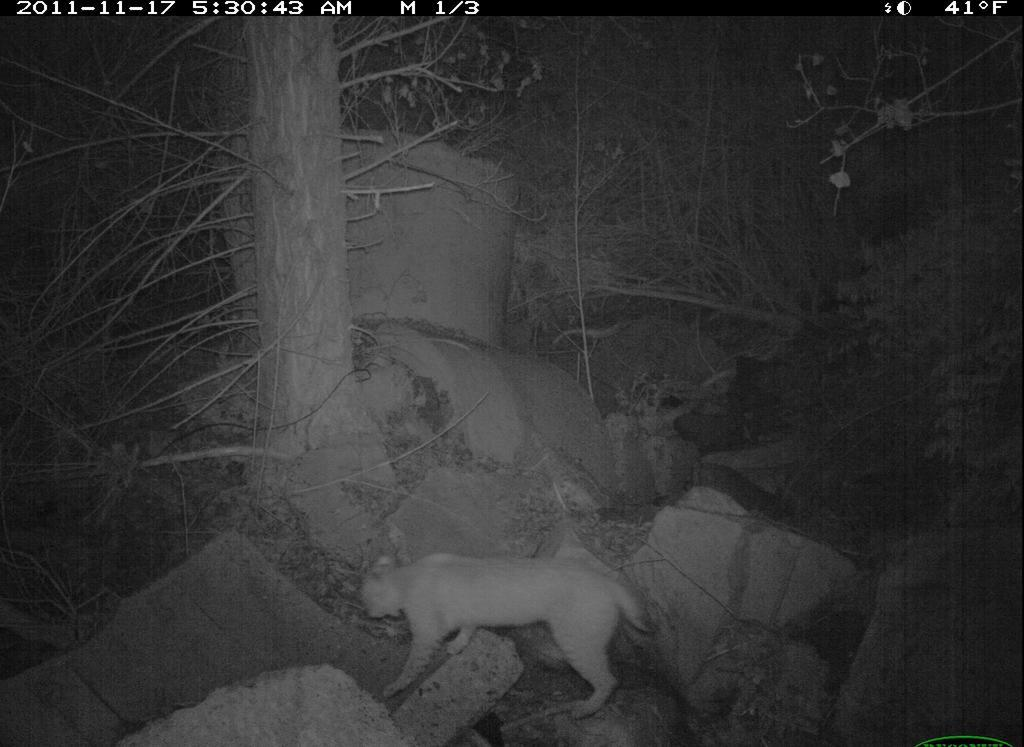bobcat: (346, 524, 675, 715)
